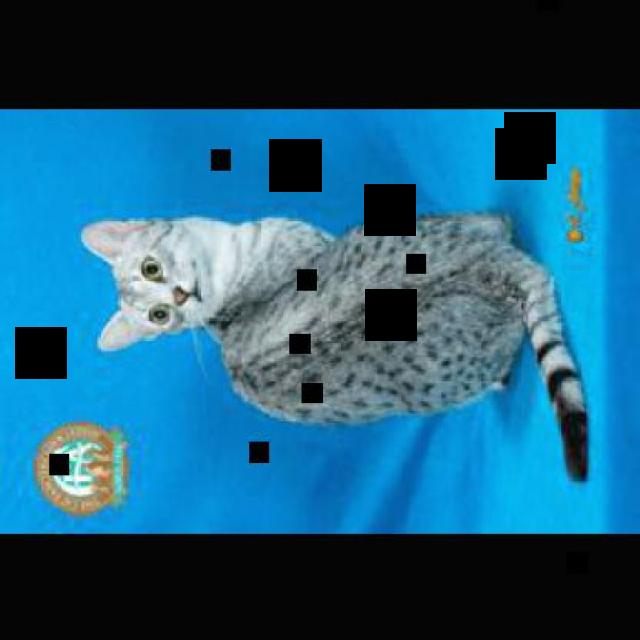unauthorized: (78, 209, 590, 482)
